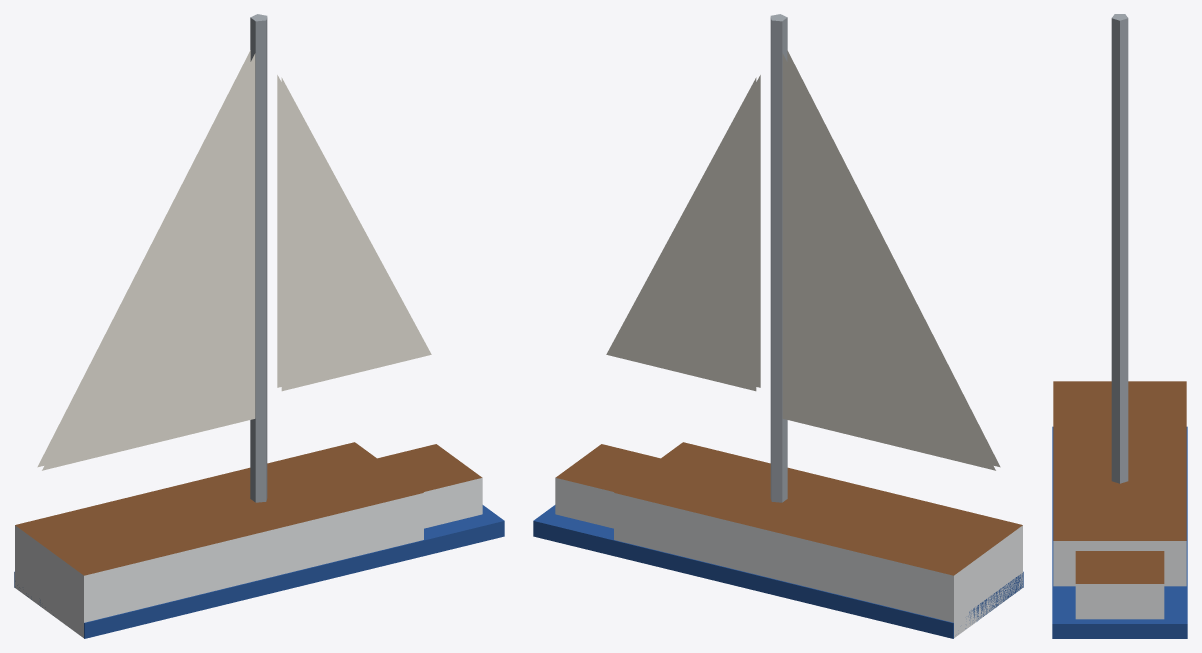
Rendered from boat_sail.glb.
3 views of the same model, side by side, from view 1: azimuth 30°, elevation 25°; view 2: azimuth 150°, elevation 25°; view 3: azimuth 270°, elevation 25° (orthographic). The views are drawn at different scales.
Visible parts, largest first — view 1: boat_sail; view 2: boat_sail; view 3: boat_sail.
Part boxes in pixels (x1,y1,x2,y2): boat_sail: (14, 14, 504, 638); boat_sail: (533, 14, 1023, 638); boat_sail: (1052, 14, 1187, 638).
Bounding box in the file's own units: 0.43 × 0.52 × 0.122.
